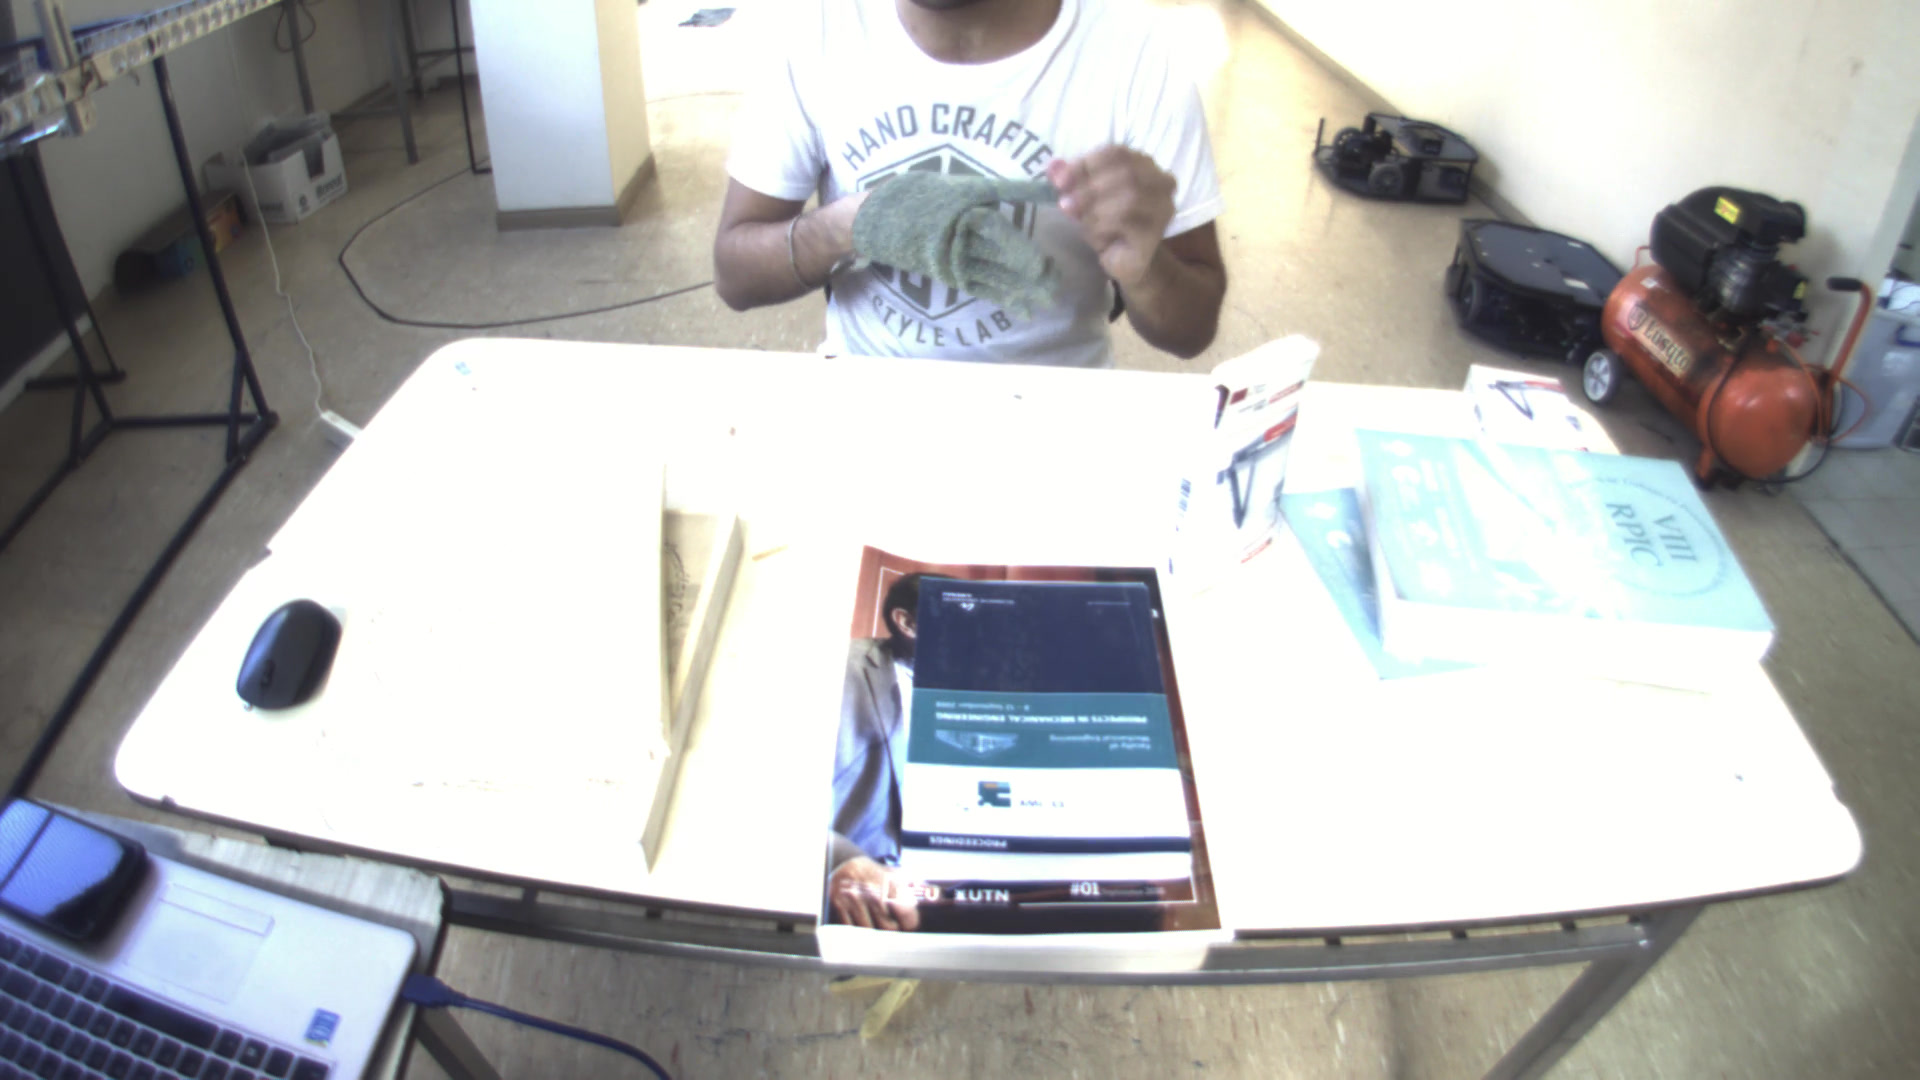hand: (853, 175, 1055, 302), (1044, 136, 1189, 260)
